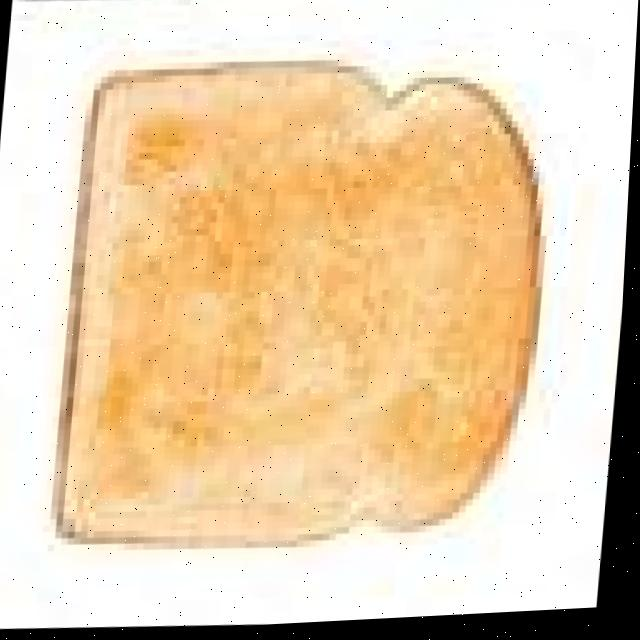Bread: (64, 68, 541, 546)
